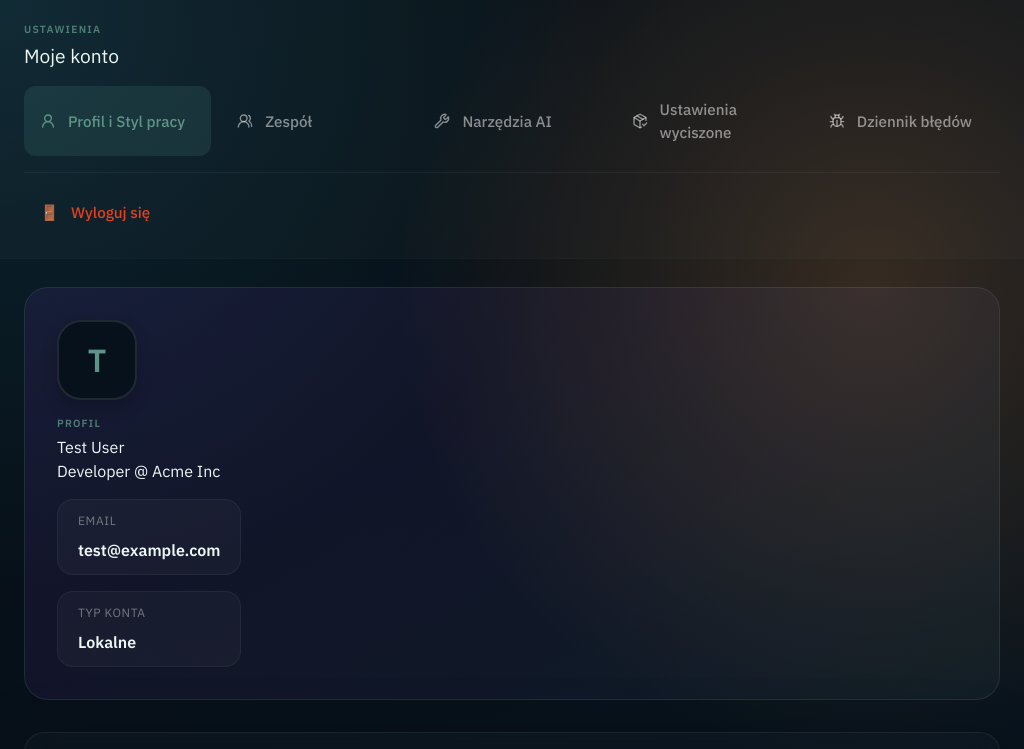
Test: ProfileTab › Integrations reference view › shows events count when Google Calendar is connected
Step 1. Click the button "Ustawienia wyciszone" → click(709, 121), box [616,86,803,156]
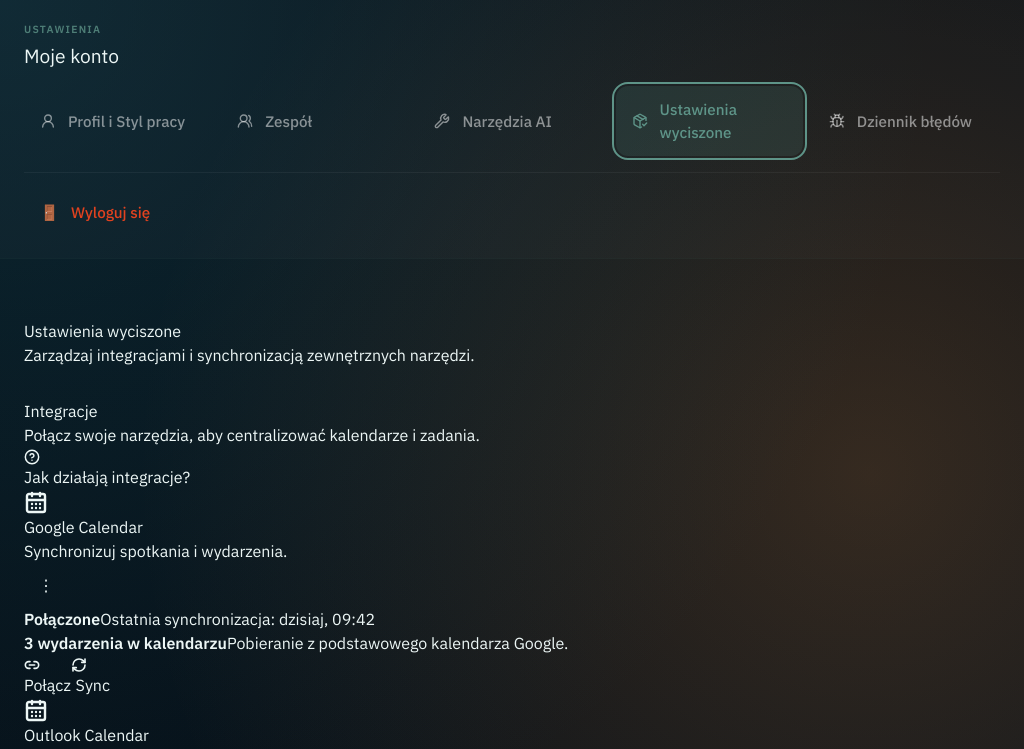
Now the text "3 wydarzenia w kalendarzu" is shown, box [24,633,227,653]
Now the text "Ostatnia synchronizacja: dzisiaj, 09:42" is shown, box [100,609,375,629]
